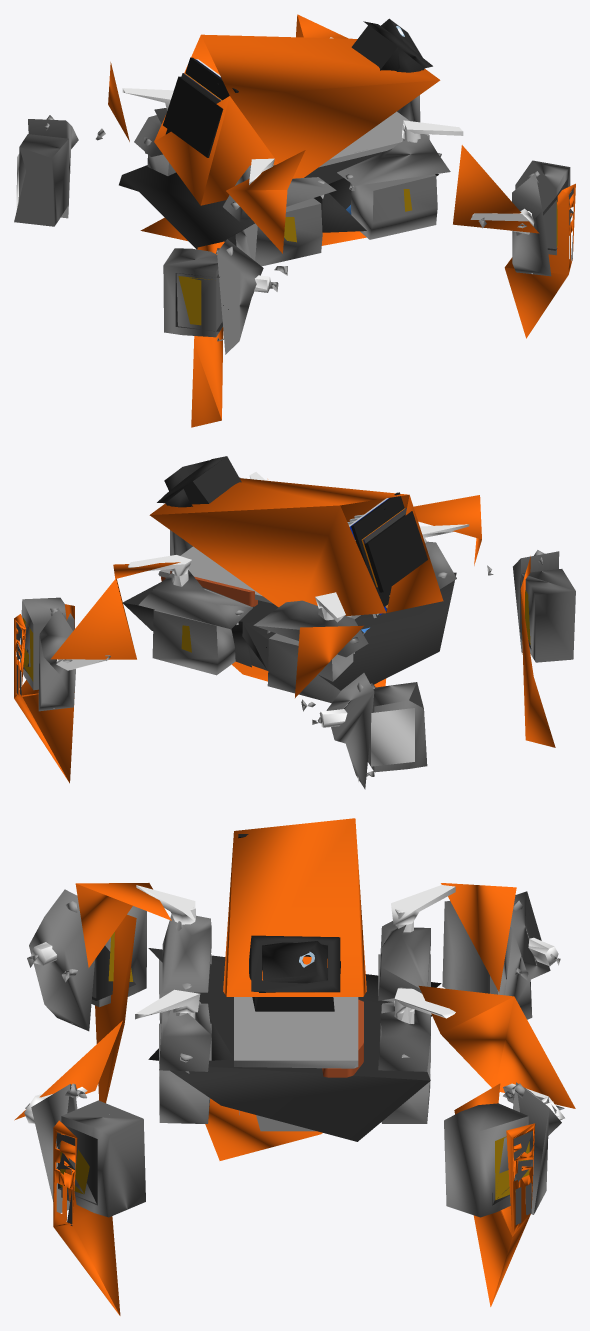
Rendered from model-lite.lod0.glb.
The picture shows the model from 3 angles, top to bottom: view 1: azimuth 30°, elevation 25°; view 2: azimuth 150°, elevation 25°; view 3: azimuth 270°, elevation 25°; orthographic projection. The views are drawn at different scales.
Visible parts, largest first — view 1: femurjoint, Body1, Internal-Frame, Body1:12, Body13, Body1:24, Body1:30, Body2; view 2: femurjoint, Body1, Internal-Frame, Body13, Body1:12, Body1:24, Body1:30, Body2, Body77; view 3: femurjoint, Body1, Internal-Frame, Body1:30, Body13, Body1:24, Body2, foot, Body77.
Part boxes in pixels (x1,y1,x2,y2): femurjoint: [108, 14, 575, 427]; Body1: [14, 95, 570, 354]; Internal-Frame: [119, 151, 438, 249]; Body1:12: [163, 57, 238, 157]; Body13: [16, 37, 534, 292]; Body1:24: [351, 18, 432, 72]; Body1:30: [44, 111, 539, 341]; Body2: [175, 73, 567, 331]; femurjoint: [14, 478, 555, 783]; Body1: [20, 477, 575, 789]; Internal-Frame: [123, 572, 456, 690]; Body13: [56, 472, 469, 766]; Body1:12: [351, 492, 427, 606]; Body1:24: [157, 456, 241, 507]; Body1:30: [50, 546, 544, 781]; Body2: [23, 508, 531, 681]; Body77: [161, 571, 257, 606]; femurjoint: [14, 818, 575, 1315]; Body1: [29, 889, 561, 1217]; Internal-Frame: [148, 948, 441, 1141]; Body1:30: [25, 900, 564, 1201]; Body13: [24, 885, 564, 1123]; Body1:24: [249, 935, 340, 1011]; Body2: [58, 932, 529, 1205]; foot: [56, 1130, 532, 1225]; Body77: [322, 999, 363, 1077].
Bounding box in the file's own units: 13.47 × 9.2 × 13.03.
